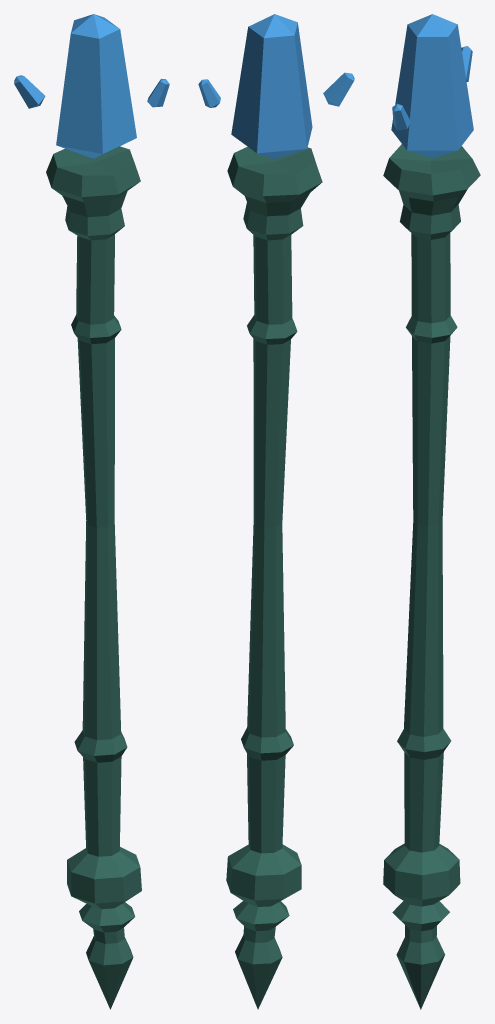
The model's file is quaternius-rpg-asset-icestaff.glb.
3 renders of one model, left to right at view 1: azimuth 30°, elevation 25°; view 2: azimuth 210°, elevation 25°; view 3: azimuth 270°, elevation 25°, orthographic.
Visible parts, largest first — view 1: IceStaff; view 2: IceStaff; view 3: IceStaff.
Part boxes in pixels (x1,y1,x2,y2): IceStaff: [14, 14, 169, 1009]; IceStaff: [198, 14, 354, 1009]; IceStaff: [383, 14, 480, 1009].
Bounding box in the file's own units: 0.3103 × 2.46 × 0.2196.
